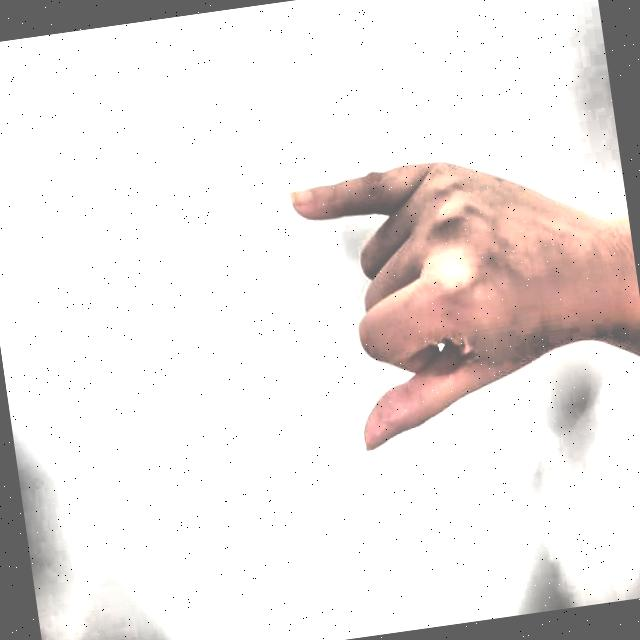Oi: (255, 83, 611, 482)
